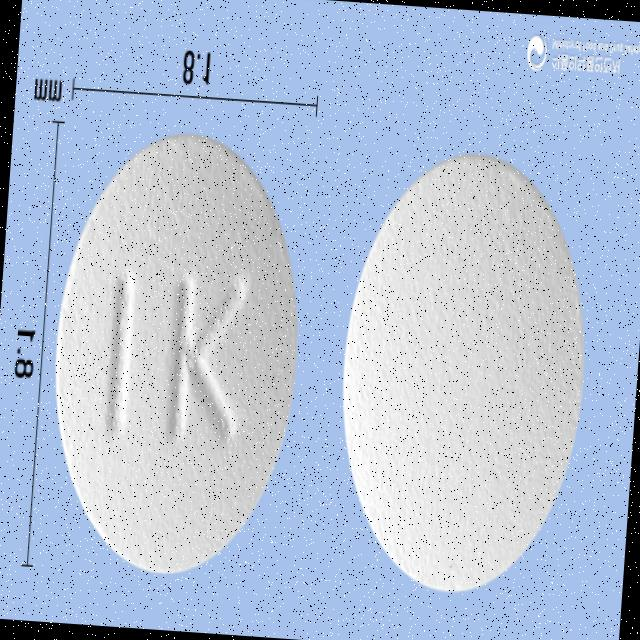Lesacra: (39, 125, 312, 587)
